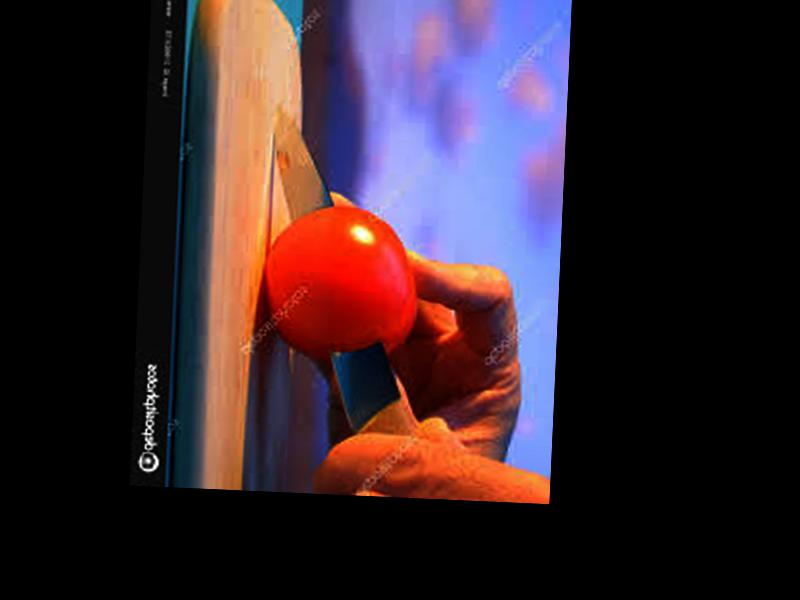Tomato: (258, 201, 419, 365)
